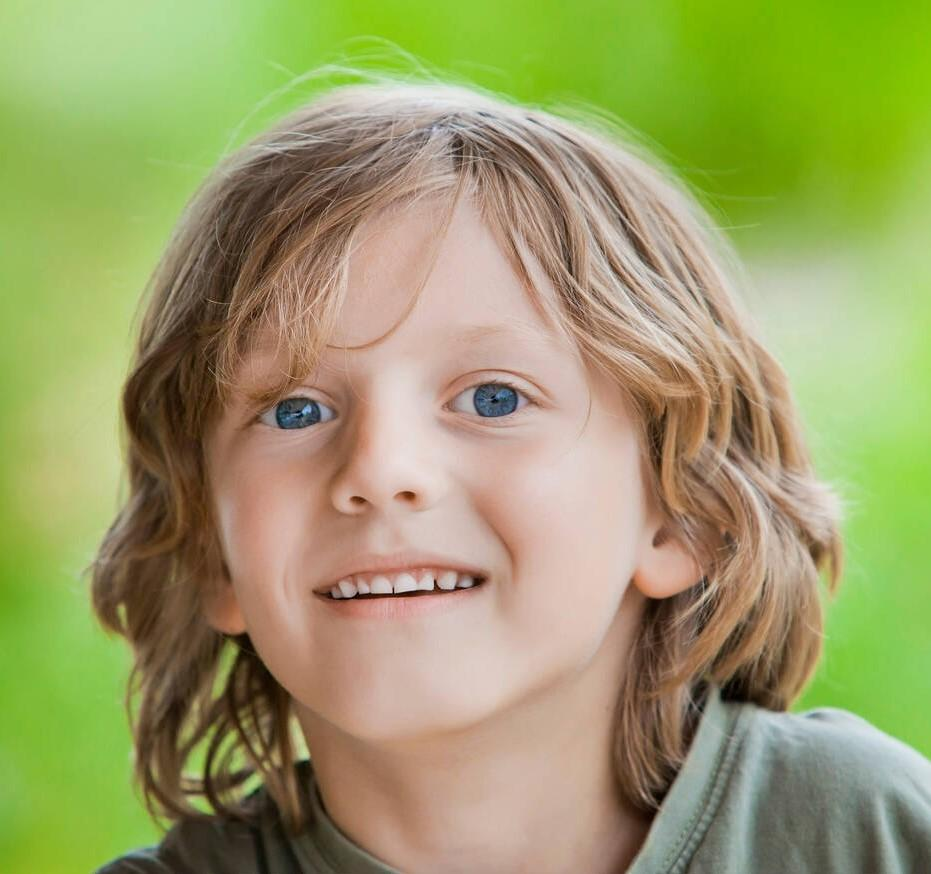Healthy: (143, 221, 690, 753)
